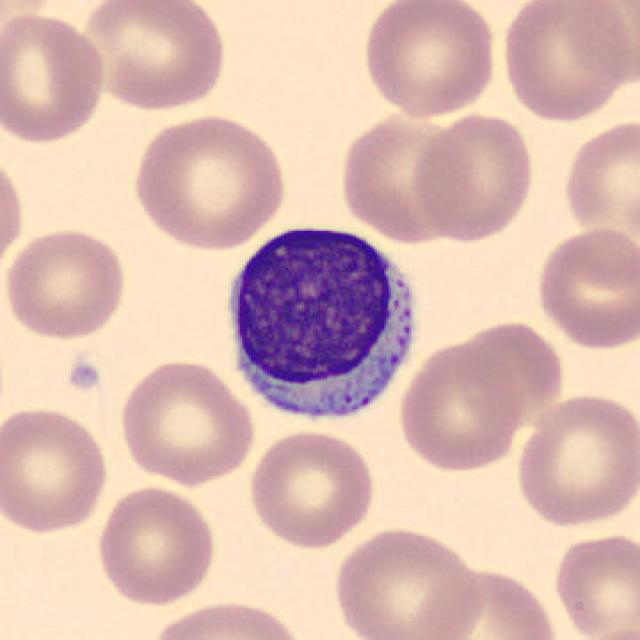Lymphocyte: (213, 213, 427, 432)
Platelets: (66, 357, 105, 397)
RBC: (128, 109, 290, 254), (114, 356, 258, 488), (396, 335, 530, 474), (328, 523, 485, 640), (336, 108, 468, 245), (512, 390, 638, 530), (77, 0, 231, 113), (409, 110, 539, 243), (497, 0, 636, 123), (359, 0, 501, 120), (245, 427, 379, 550), (92, 483, 218, 608), (0, 224, 130, 342), (0, 9, 110, 146), (0, 402, 112, 536), (532, 222, 638, 353), (450, 316, 569, 426), (416, 562, 564, 640), (560, 115, 638, 242), (550, 527, 638, 638), (144, 596, 308, 640), (0, 148, 28, 280), (565, 620, 639, 640)
